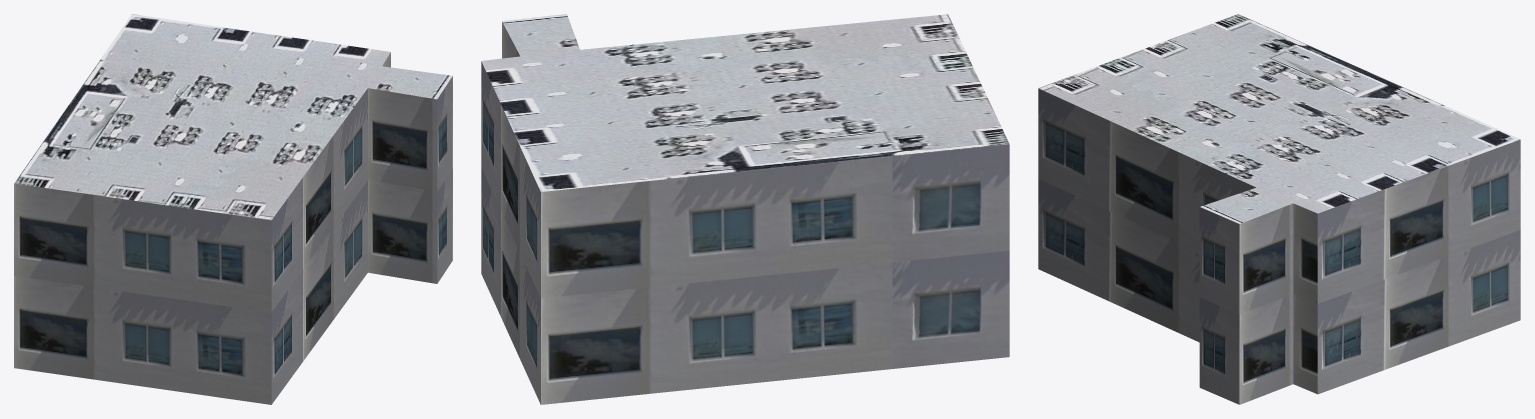
File: ResTex__1717.fbx
3 renders of one model, left to right at view 1: azimuth 30°, elevation 25°; view 2: azimuth 150°, elevation 25°; view 3: azimuth 270°, elevation 25°, orthographic. The views are drawn at different scales.
Visible parts, largest first — view 1: CityEngineMaterial_10_m, CityEngineMaterial_4_m; view 2: CityEngineMaterial_10_m, CityEngineMaterial_4_m; view 3: CityEngineMaterial_10_m, CityEngineMaterial_4_m.
Boxes of the visible parts, x1,y1,x2,y2 form: CityEngineMaterial_10_m: [14, 52, 452, 404]; CityEngineMaterial_4_m: [14, 14, 452, 220]; CityEngineMaterial_10_m: [481, 22, 1009, 404]; CityEngineMaterial_4_m: [481, 14, 1009, 191]; CityEngineMaterial_10_m: [1038, 88, 1520, 404]; CityEngineMaterial_4_m: [1038, 14, 1520, 223].
Size of the model in its own units: 14.95 by 6 by 14.51.
2 materials, 2 textured.
